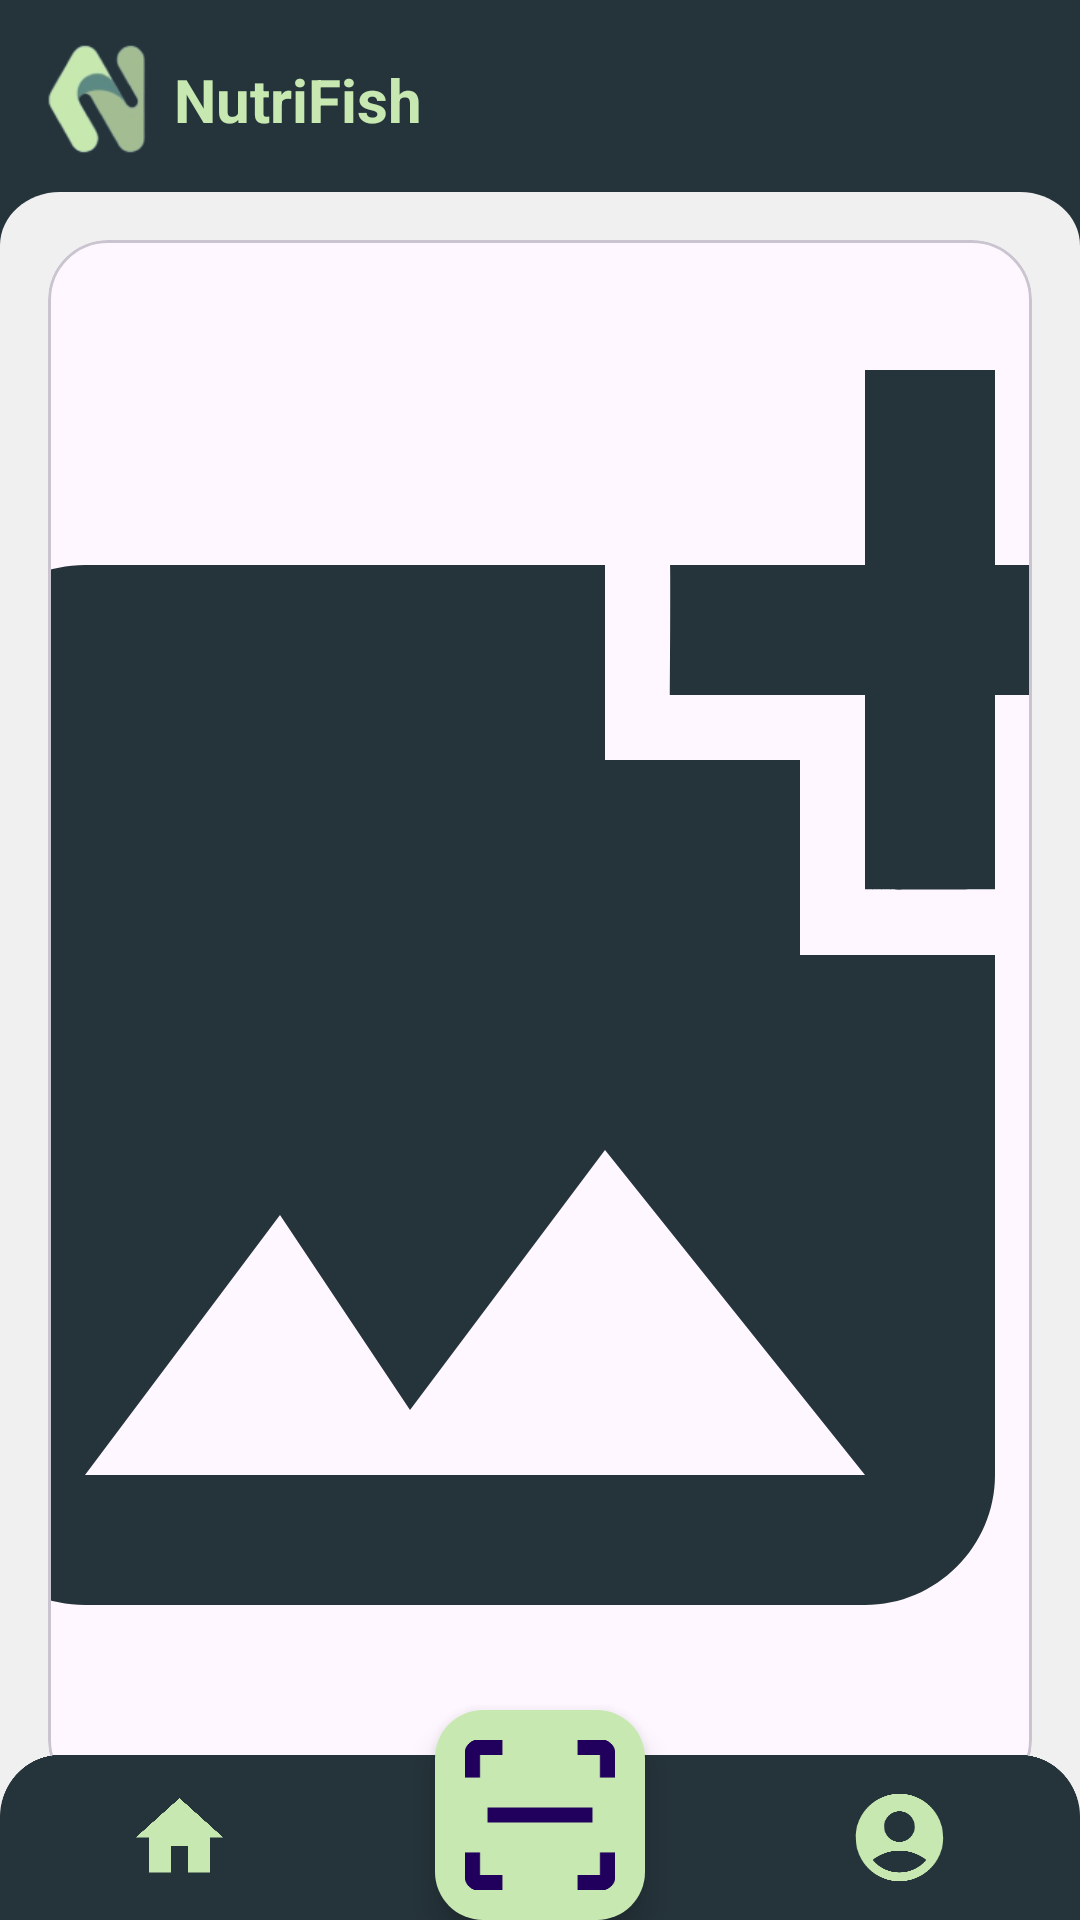

Point at icon controls on the screen. Image size 1080×1920, points as (x=x, y=y).
Analyze button: (x=540, y=1815)
